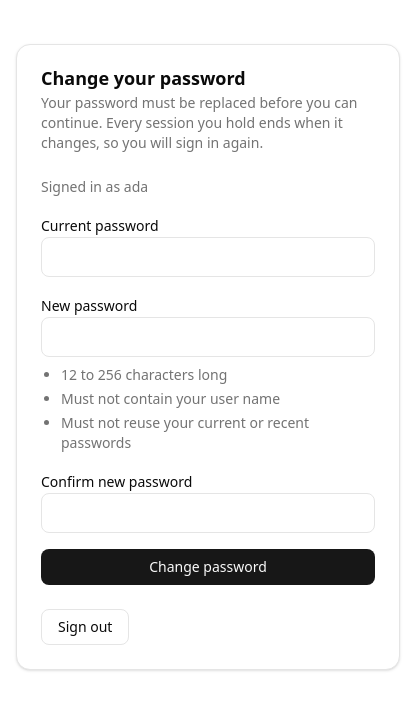
it: ChangePassword › refuses a mismatched confirmation without submitting, and clears the fields
Type "Current-Value-4f81" into the password field labelled "Current password" at (208, 257), box [41, 237, 375, 277]
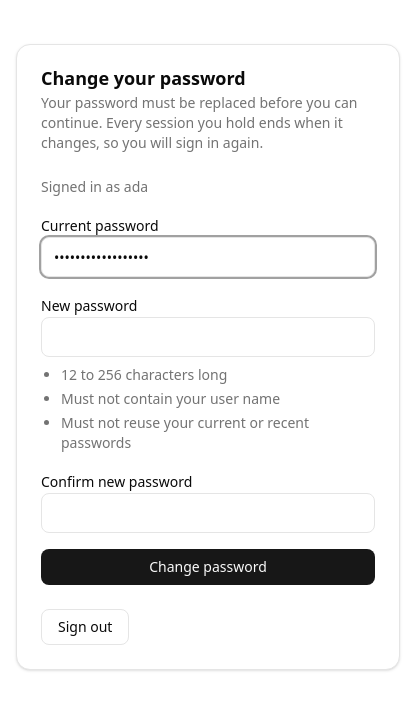
Type "Next-Value-9c2e-long" into the password field labelled "New password" at (208, 337), box [41, 317, 375, 357]
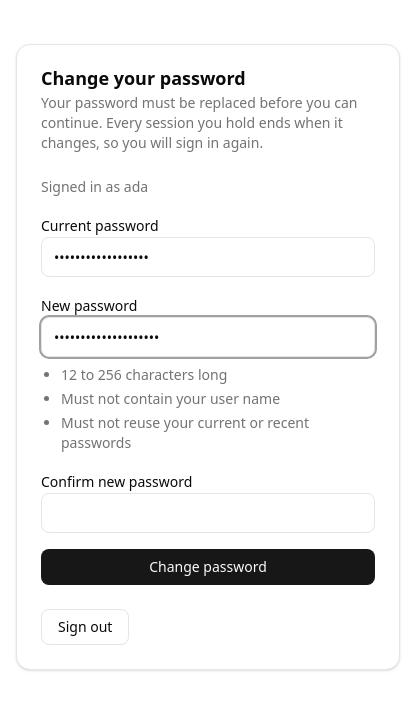
Type "Something-Else-123" into the password field labelled "Confirm new password" at (208, 513), box [41, 493, 375, 533]
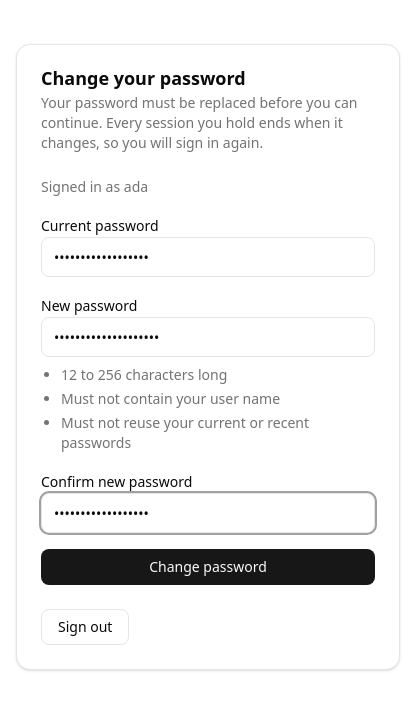
Click the button "Change password" at (208, 567), box [41, 549, 375, 585]
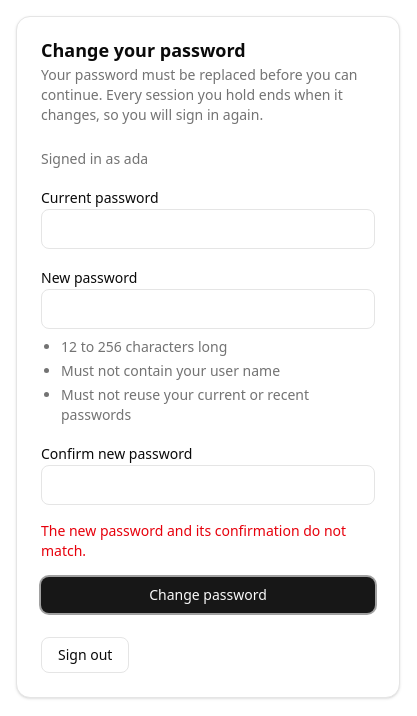
Now the message reads "The new password and its confirmation do not match.", box [41, 521, 346, 560]
Now the password field labelled "Current password" is empty, box [41, 209, 375, 249]
Now the password field labelled "New password" is empty, box [41, 289, 375, 329]
